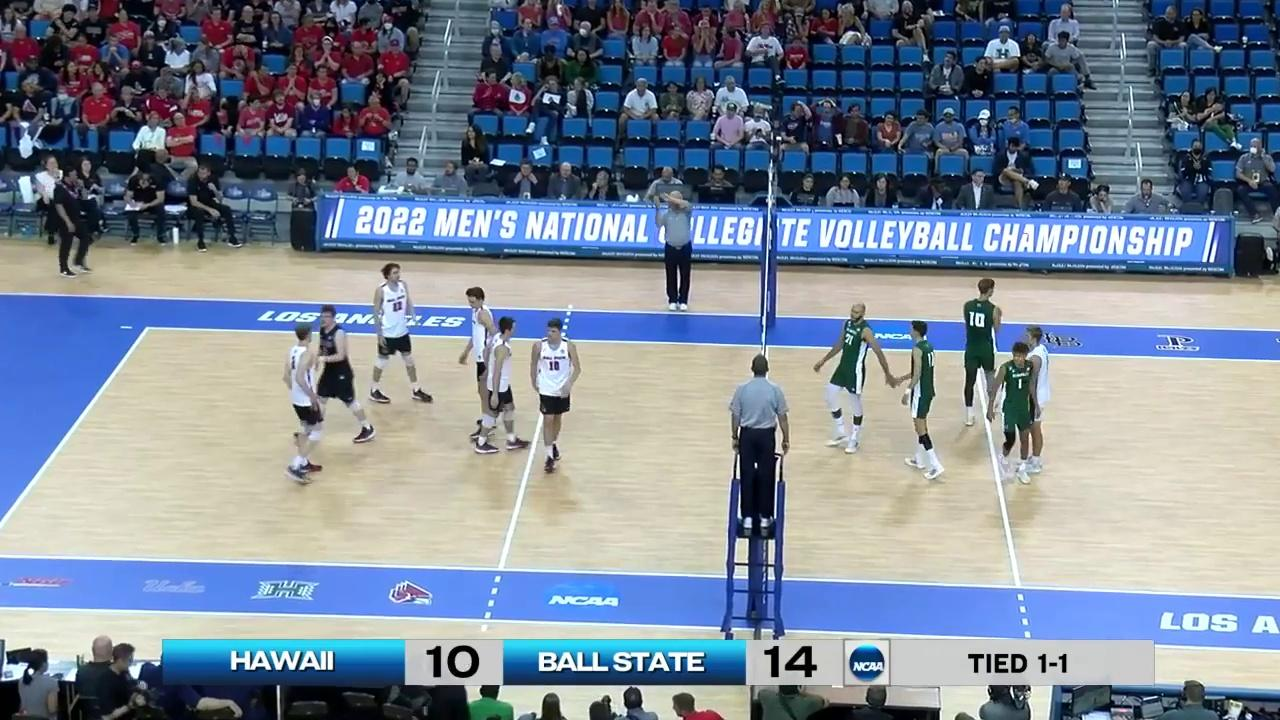player: (817, 304, 886, 453), (302, 307, 372, 446), (890, 321, 944, 480), (372, 264, 431, 404), (532, 320, 577, 474), (459, 289, 504, 442), (958, 281, 1005, 427), (992, 337, 1036, 489), (282, 325, 325, 480), (1011, 324, 1050, 475), (482, 314, 522, 451), (657, 190, 694, 312)
refree: (728, 356, 790, 526)
